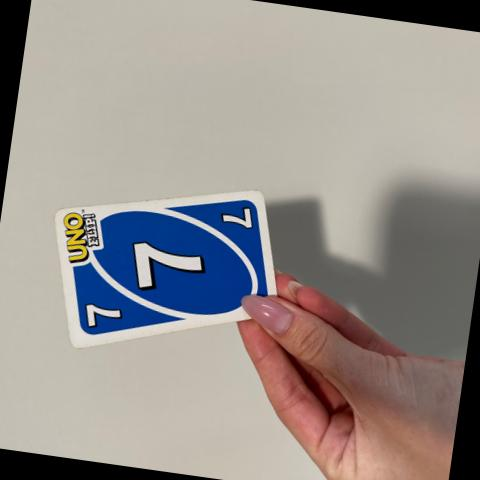lblue-7: (75, 286, 136, 336)
